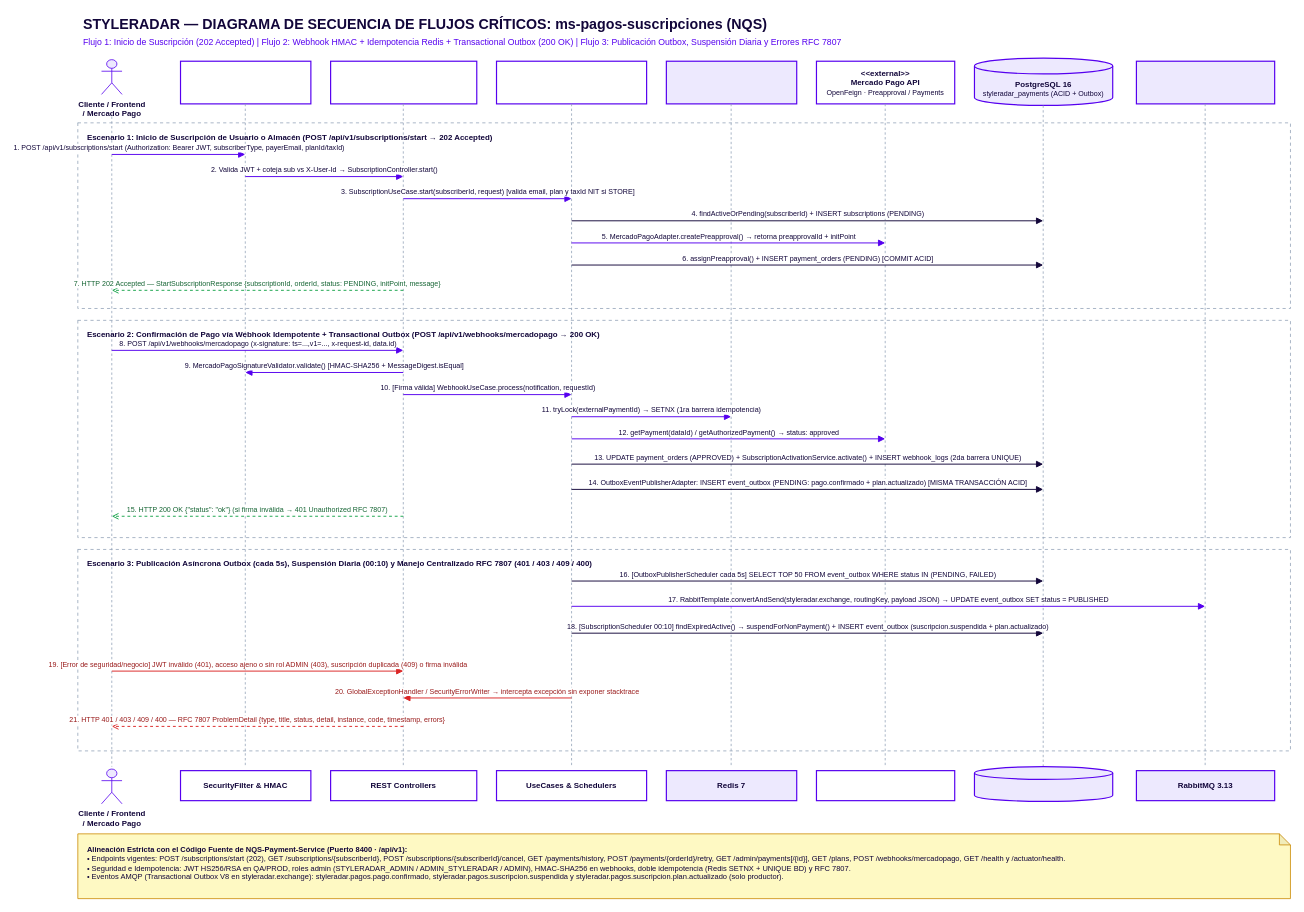
Image size: 1304x912. Some labels were removed from this diagram. Each missing label, with the box of its shape:
<<broker>> RabbitMQ 3.13 styleradar.exchange (topic): (1135, 60, 1275, 104)
<<cache>> Redis 7 RedisIdempotencyAdapter (SETNX): (665, 60, 797, 104)
<<component>> REST Controllers Subscription · Webhook · GlobalExHandler: (330, 60, 477, 104)
<<component>> UseCases & Schedulers Subscription · Webhook · Outbox · Daily: (496, 60, 647, 104)
<<security>> SecurityFilter & HMAC JWT HS256/RSA · x-signature: (180, 60, 311, 104)
Mercado Pago API: (816, 770, 955, 801)
PostgreSQL 16: (974, 766, 1113, 802)
